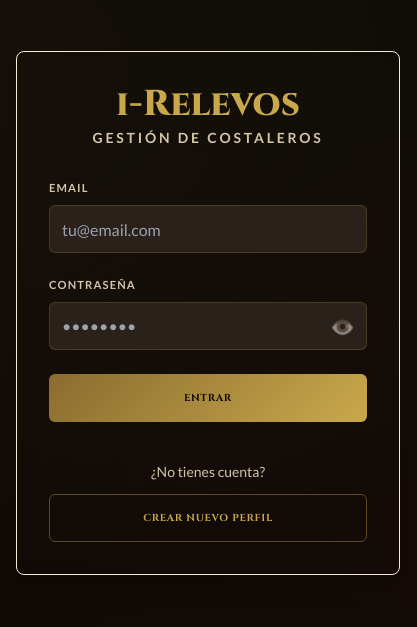
Test: LoginPage › displays Spanish rate-limit message when Supabase returns rate limit error
Type "test@test.com" into the field labelled "Email". click: (208, 229)
box: 49,205 -> 367,253
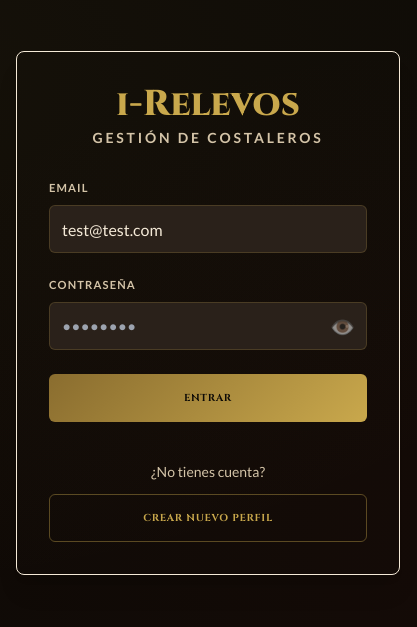
Type "password123" into the password field labelled "Contraseña". click: (208, 326)
box: 49,302 -> 367,350
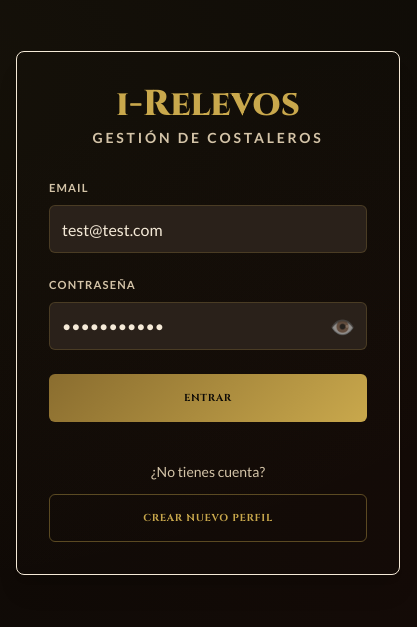
Click the button "ENTRAR". click: (208, 398)
box: 49,374 -> 367,422
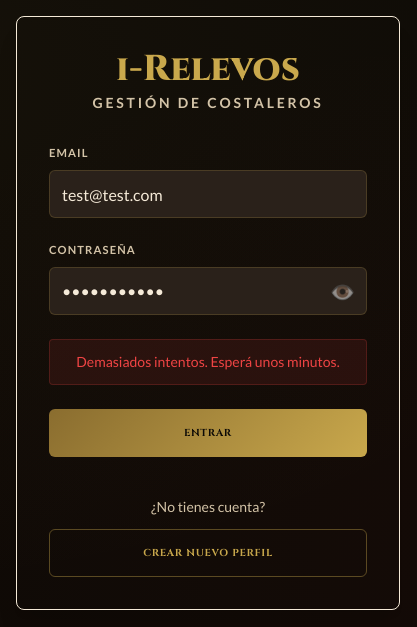
Expected: the text "Demasiados intentos. Esperá unos minutos." is shown, 49,339 -> 367,385
